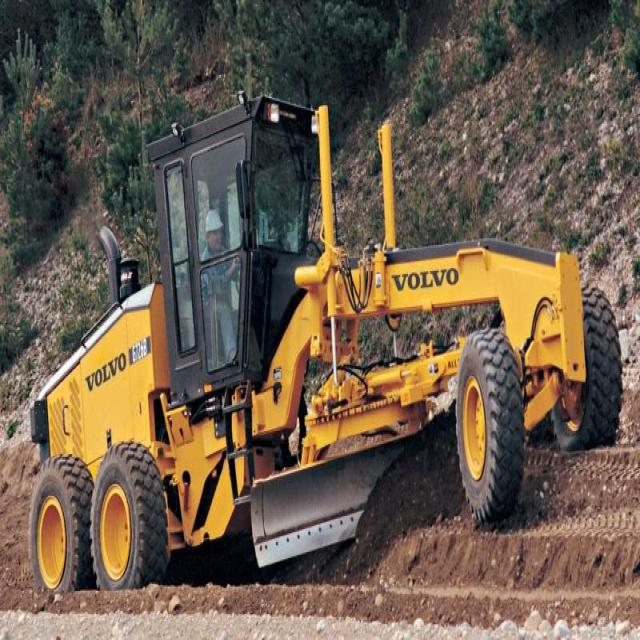buldozerpayloadergrader: (8, 43, 638, 637)
